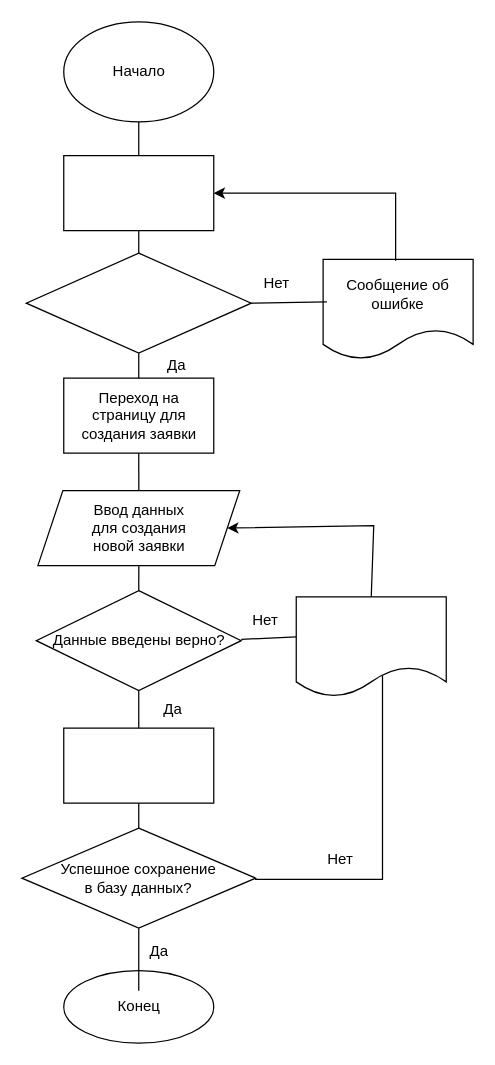
Image size: 495x1065. Some labels were removed from this diagram. Here are the shapes that lost their labels. From the top down, the centre of each, then its label:
At pixel 138 192: "Авторизация пользователя".
At pixel 138 302: "Успешная авторизация?".
At pixel 370 646: "Сообщение об ошибке введенных полей".
At pixel 138 765: "Передача данных для записи в базу данных".
